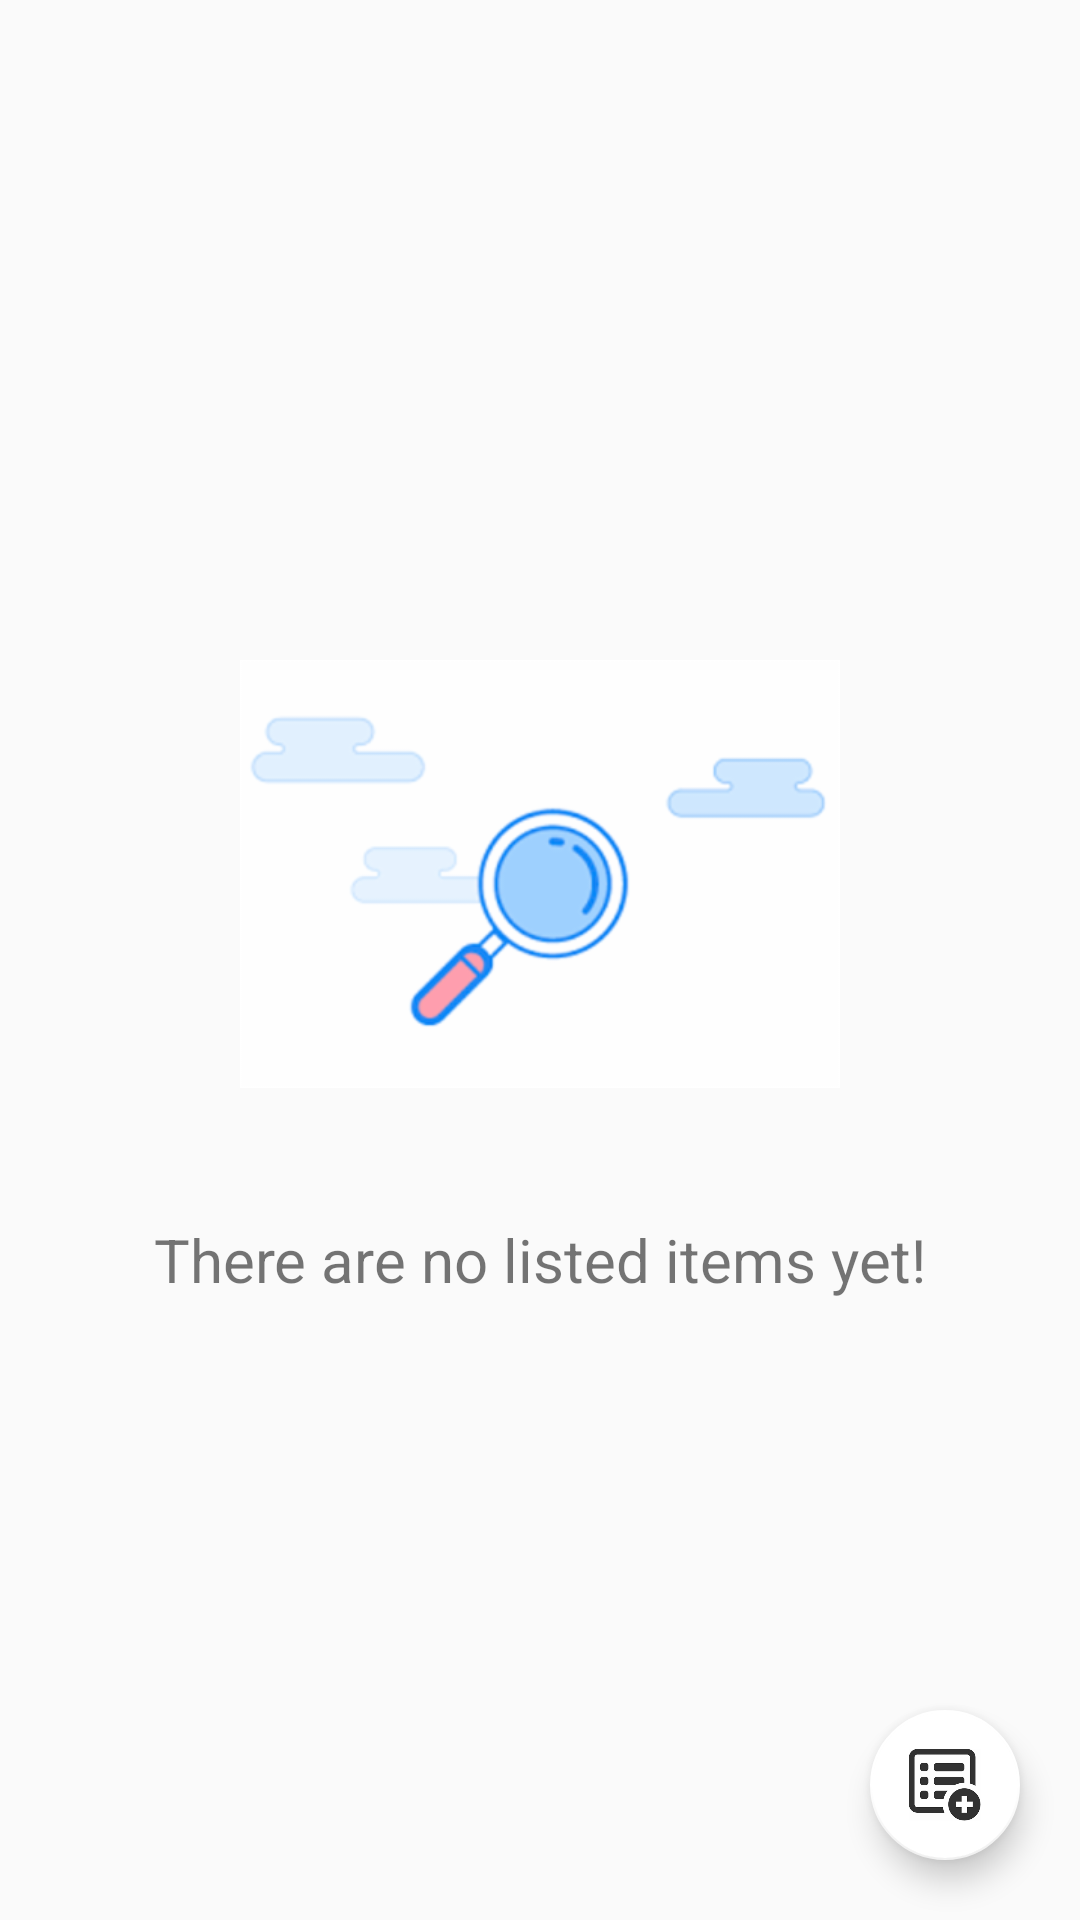

Point at icon controls on the screen. Image size 1080 x 1920, points as [x,y].
add product: [945,1785]
